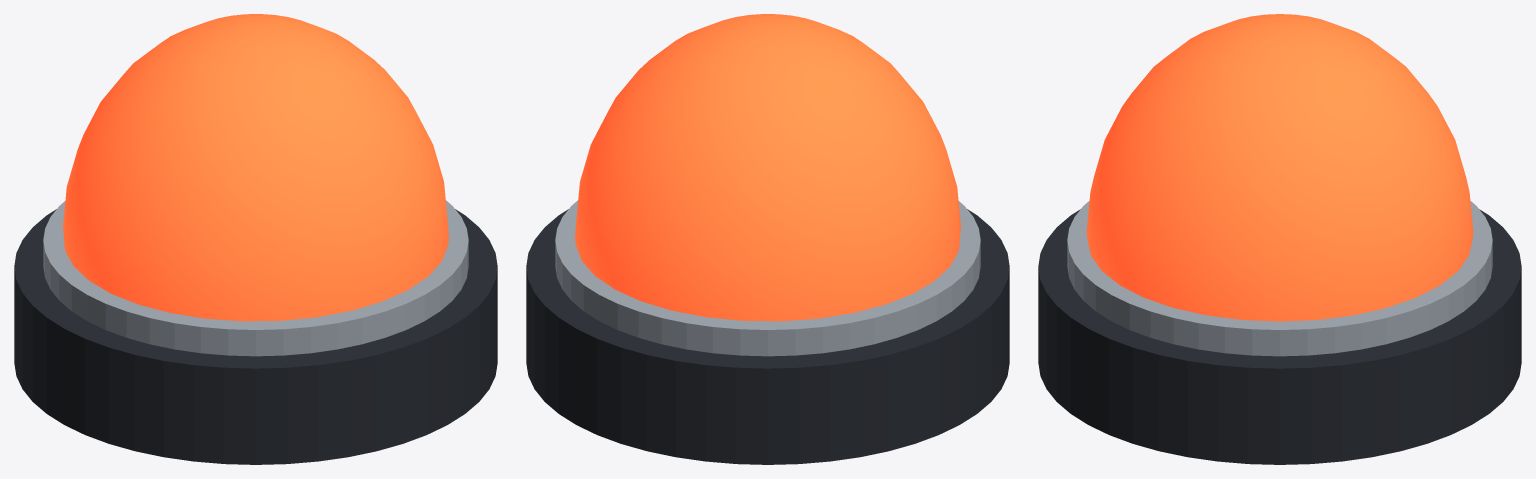
Rendered from sirena.glb.
3 renders of one model, left to right at view 1: azimuth 30°, elevation 25°; view 2: azimuth 150°, elevation 25°; view 3: azimuth 270°, elevation 25°, orthographic.
Visible parts, largest first — view 1: Sphere, Cylinder, Cylinder.001; view 2: Sphere, Cylinder, Cylinder.001; view 3: Sphere, Cylinder, Cylinder.001.
Boxes of the visible parts, left/top/right/bottom form: Sphere: left=63, top=14, right=448, bottom=321; Cylinder: left=14, top=209, right=497, bottom=464; Cylinder.001: left=43, top=200, right=468, bottom=356; Sphere: left=575, top=14, right=960, bottom=321; Cylinder: left=526, top=209, right=1009, bottom=464; Cylinder.001: left=555, top=200, right=980, bottom=356; Sphere: left=1086, top=14, right=1473, bottom=321; Cylinder: left=1038, top=209, right=1521, bottom=464; Cylinder.001: left=1067, top=201, right=1492, bottom=356.
Size of the model in its own units: 1 by 0.92 by 1.
